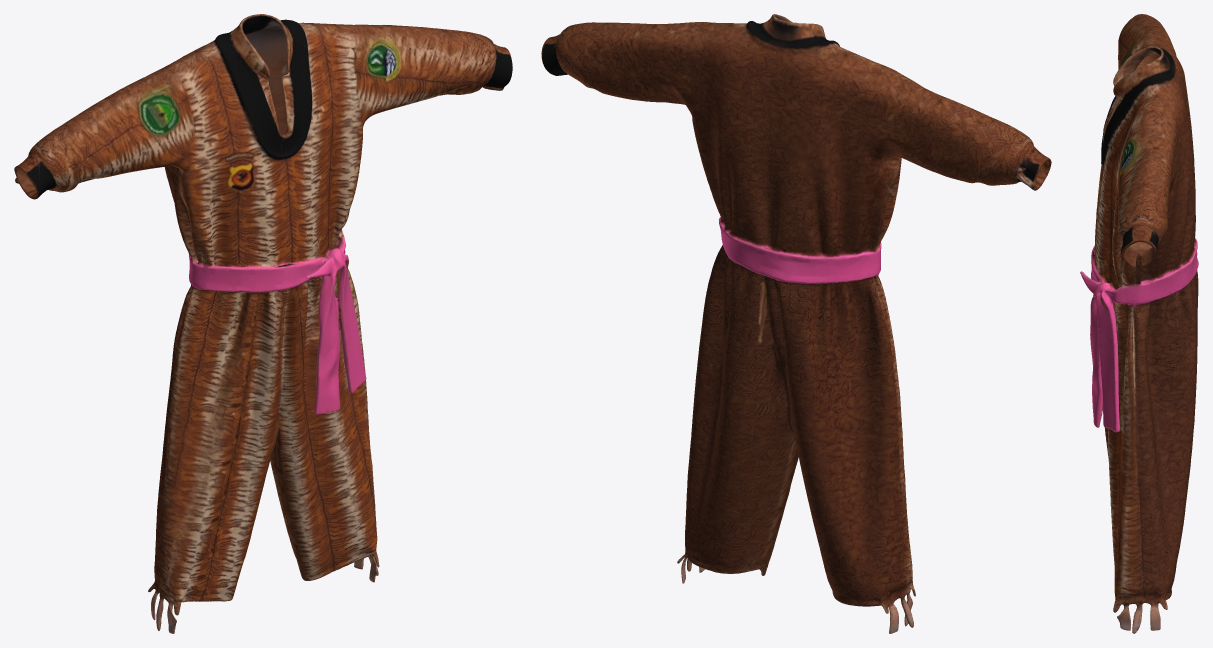
File: compressed-baju seragam.glb
3 views of the same model, side by side, from view 1: azimuth 30°, elevation 25°; view 2: azimuth 150°, elevation 25°; view 3: azimuth 270°, elevation 25° (orthographic). The views are drawn at different scales.
Parts seen in each view (by area): view 1: mesh_node; view 2: mesh_node; view 3: mesh_node.
Part boxes in pixels (<box>): mesh_node: <box>14,14,512,633</box>; mesh_node: <box>541,14,1051,633</box>; mesh_node: <box>1080,14,1198,633</box>.
Size of the model in its own units: 1.67 by 1.9 by 0.38.
1 material, 1 textured.
